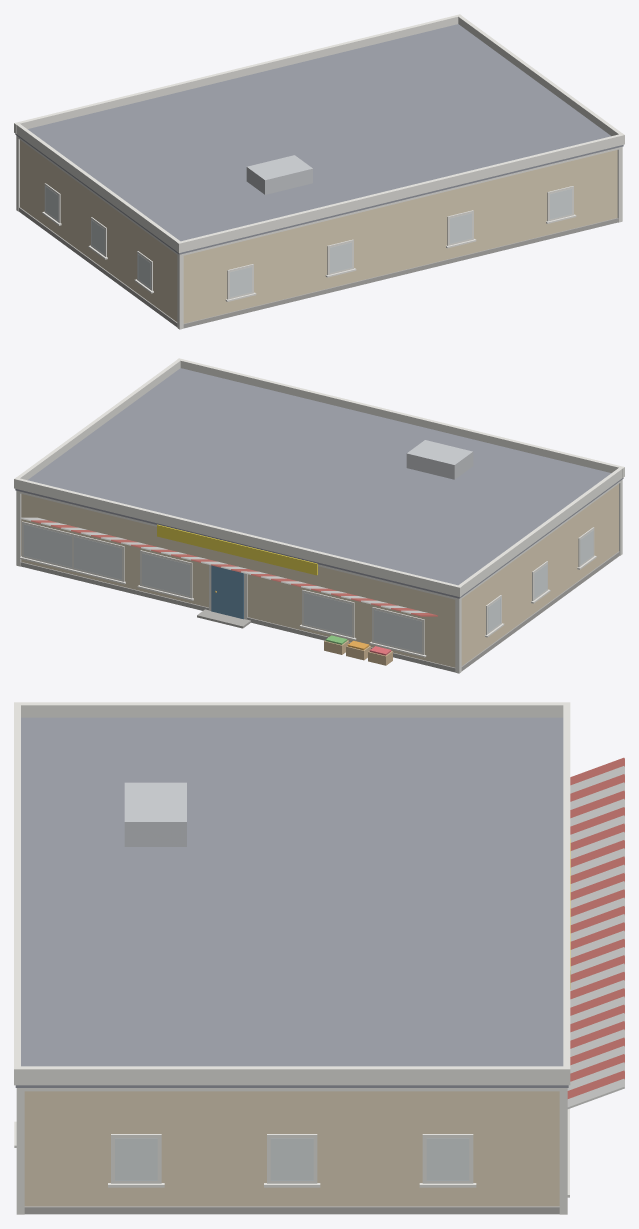
The model's file is market_a.glb.
3 views of the same model, one above another, from view 1: azimuth 30°, elevation 25°; view 2: azimuth 150°, elevation 25°; view 3: azimuth 270°, elevation 25° (orthographic). The views are drawn at different scales.
Parts seen in each view (by area): view 1: roof, body; view 2: roof, body; view 3: roof, body.
Part boxes in pixels (x1,y1,x2,y2): roof: (14,14,624,254); body: (16,135,622,329); roof: (14,358,624,598); body: (16,479,622,673); roof: (14,702,570,1087); body: (14,757,624,1214).
Size of the model in its own units: 22.3 by 4.65 by 15.68.
